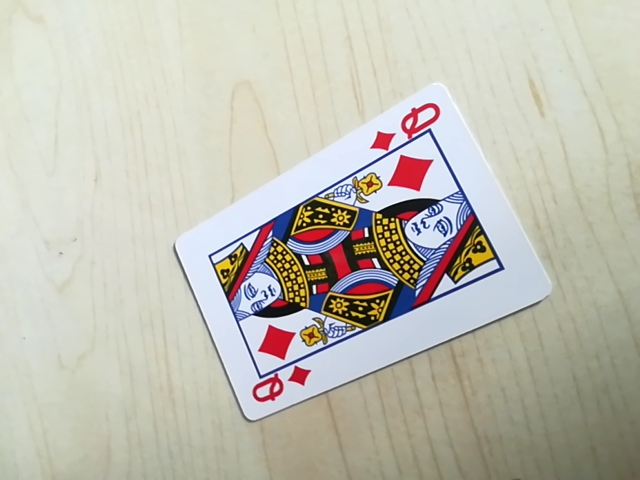fk q: (370, 94, 446, 153), (246, 363, 313, 412)
